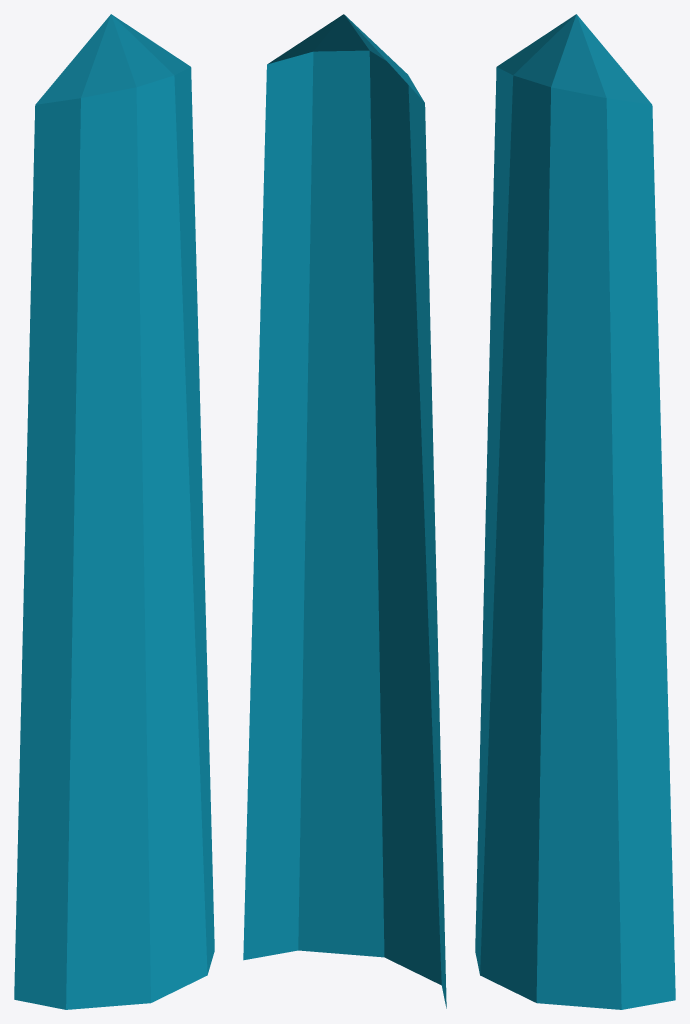
The model's file is Crystal.fbx.
3 views of the same model, side by side, from view 1: azimuth 30°, elevation 25°; view 2: azimuth 150°, elevation 25°; view 3: azimuth 330°, elevation 25° (orthographic).
Parts seen in each view (by area): view 1: Big Crystal; view 2: Big Crystal; view 3: Big Crystal.
Part boxes in pixels (x1=…): Big Crystal: x1=14, y1=14, x2=214, y2=1009; Big Crystal: x1=243, y1=14, x2=446, y2=1008; Big Crystal: x1=475, y1=14, x2=675, y2=1009.
Size of the model in its own units: 130 by 594 by 44.87.
